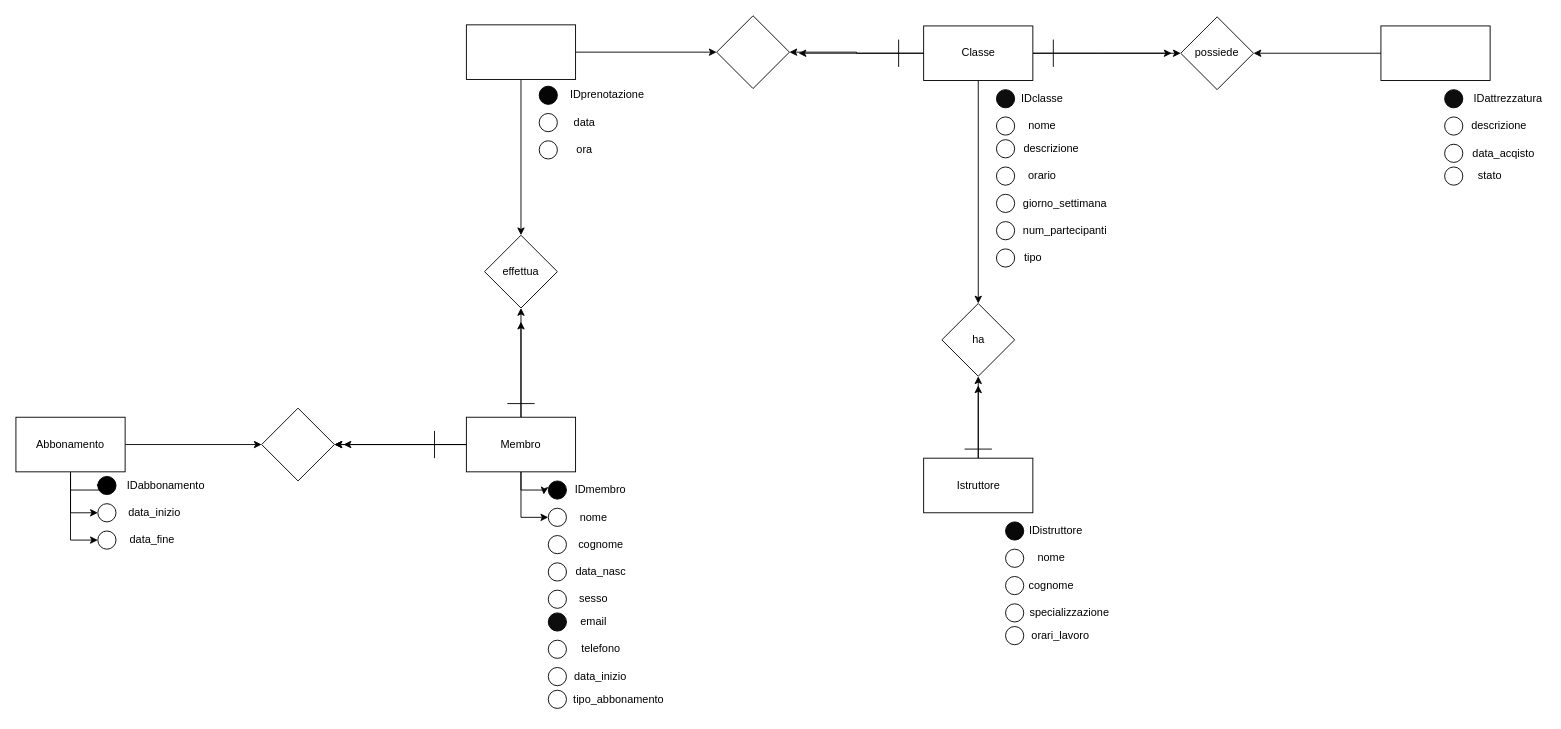
Some shapes in this 1561 by 729 pixel diagram are drawn without their labels. Here are the shapes that lost their labels. From the top down, the centre of each, then its label:
At (520,51): "Prenotazine".
At (752,52): "riguarda".
At (1435,53): "Attrezzatura".
At (297,444): "effettuato".
